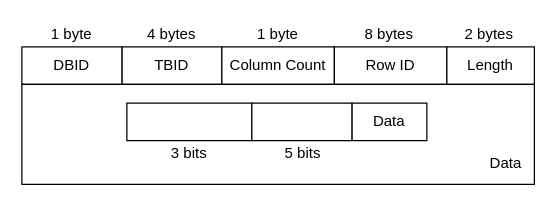
This 556x206 diagram has some shape labels left out. Each missing label, with the centre of its shape:
"Data Length" belongs at pixel 301 121.
"Data Type" belongs at pixel 189 121.
